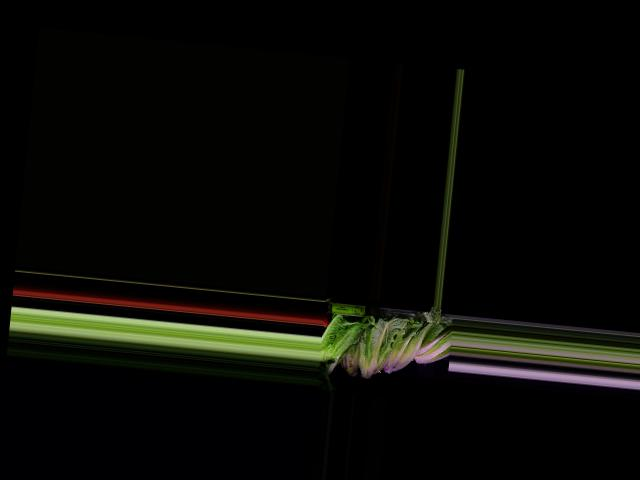lettuce: (410, 323, 453, 368)
